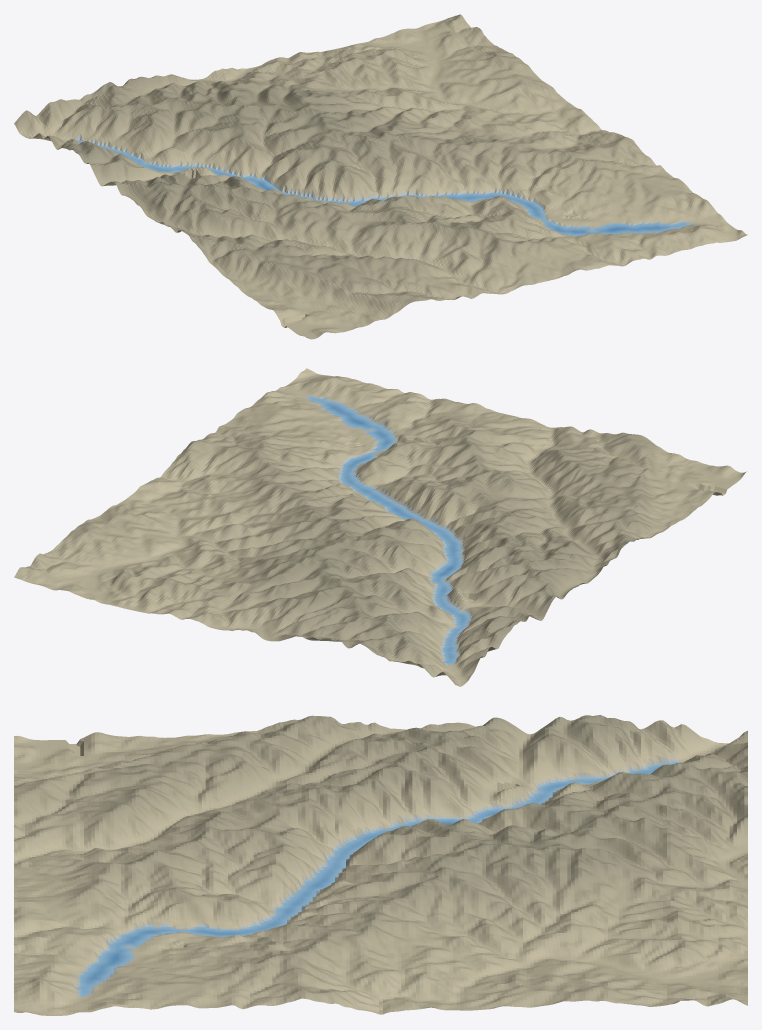
File: lake_chelan_wa.glb
3 renders of one model, top to bottom at view 1: azimuth 30°, elevation 25°; view 2: azimuth 150°, elevation 25°; view 3: azimuth 270°, elevation 25°, orthographic. The views are drawn at different scales.
Visible parts, largest first — view 1: terrain, water; view 2: terrain, water; view 3: terrain, water.
Boxes of the visible parts, <box> form: terrain: <box>14,14,747,339</box>; water: <box>77,140,691,235</box>; terrain: <box>14,368,746,686</box>; water: <box>308,396,470,664</box>; terrain: <box>14,715,747,1015</box>; water: <box>76,762,677,996</box>.
Bounding box in the file's own units: 56600 × 3512 × 64976.
